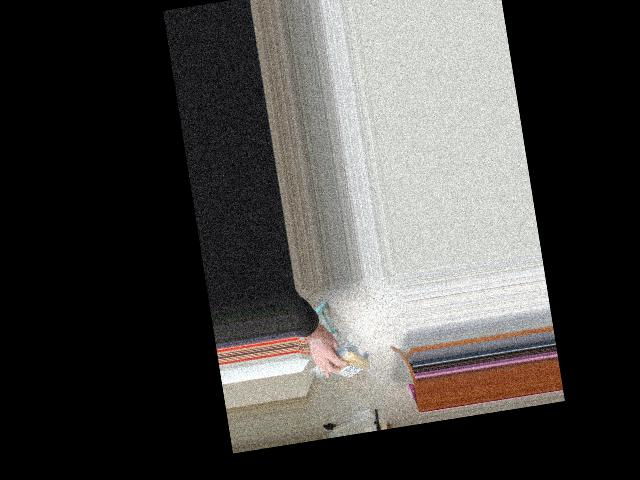cheese: (324, 346, 373, 382)
